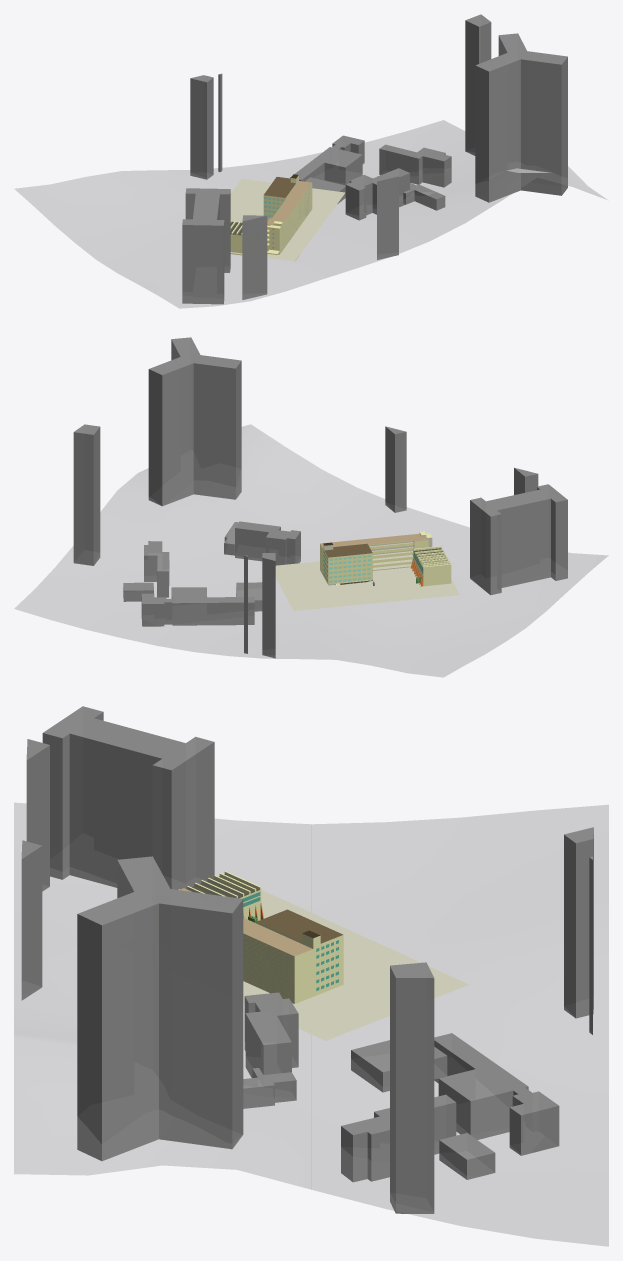
The model's file is Output_STMC_cad(Overlay).dae.
3 renders of one model, top to bottom at view 1: azimuth 30°, elevation 25°; view 2: azimuth 150°, elevation 25°; view 3: azimuth 270°, elevation 25°, orthographic. The views are drawn at different scales.
Parts seen in each view (by area): view 1: group_85, group_14, group_4, image_0, STMC_import (×4), group_49, group_15, group_22, group_16, group_70, group_51, group_65 (+2 smaller); view 2: group_85, group_14, group_4, image_0, STMC_import (×5), group_15, group_16, group_65, group_51, group_49, group_22, group_70 (+2 smaller); view 3: group_85, group_14, group_4, group_15, group_16, STMC_import (×4), image_0, group_49, group_65, group_22, group_51, group_70 (+4 smaller).
Boxes of the visible parts, x1,y1,x2,y2 form: group_85: [15, 120, 606, 308]; group_14: [475, 33, 567, 202]; group_4: [182, 188, 230, 304]; image_0: [230, 179, 344, 261]; STMC_import (×4): [230, 175, 312, 255]; group_49: [190, 75, 213, 179]; group_15: [465, 14, 491, 155]; group_22: [379, 144, 451, 187]; group_16: [290, 135, 364, 184]; group_70: [242, 215, 267, 299]; group_51: [377, 176, 398, 259]; group_65: [345, 168, 409, 220]; group_85: [14, 424, 608, 677]; group_14: [148, 337, 241, 506]; group_4: [470, 484, 567, 595]; image_0: [275, 561, 459, 610]; STMC_import (×5): [320, 533, 451, 586]; group_15: [73, 424, 100, 565]; group_16: [141, 587, 254, 626]; group_65: [235, 521, 300, 565]; group_51: [385, 426, 406, 512]; group_49: [262, 553, 275, 658]; group_22: [144, 541, 169, 597]; group_70: [514, 467, 538, 494]; group_85: [14, 803, 608, 1246]; group_14: [77, 856, 243, 1160]; group_4: [42, 706, 214, 889]; group_15: [390, 962, 434, 1213]; group_16: [434, 1033, 559, 1155]; STMC_import (×4): [178, 871, 343, 1003]; image_0: [243, 890, 468, 1040]; group_49: [564, 827, 593, 1018]; group_65: [244, 992, 298, 1077]; group_22: [341, 1094, 456, 1182]; group_51: [21, 840, 42, 1000]; group_70: [26, 739, 49, 891].
Bounding box in the file's own units: 14173 × 9449 × 5481.
